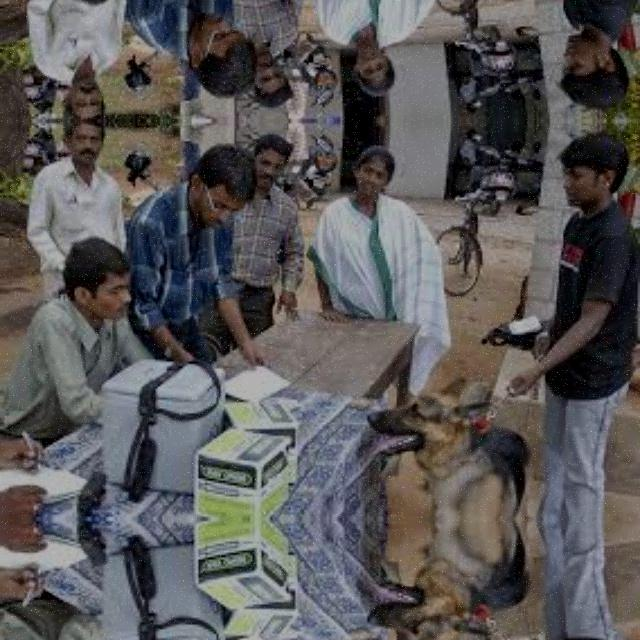dog: (359, 385, 519, 519), (359, 519, 519, 640)
person: (524, 121, 632, 519), (126, 142, 250, 372), (4, 247, 130, 448), (310, 140, 428, 340), (11, 120, 121, 258), (11, 0, 121, 120), (524, 519, 632, 640), (524, 0, 632, 119), (127, 0, 250, 98), (310, 0, 428, 100), (4, 590, 130, 640)
